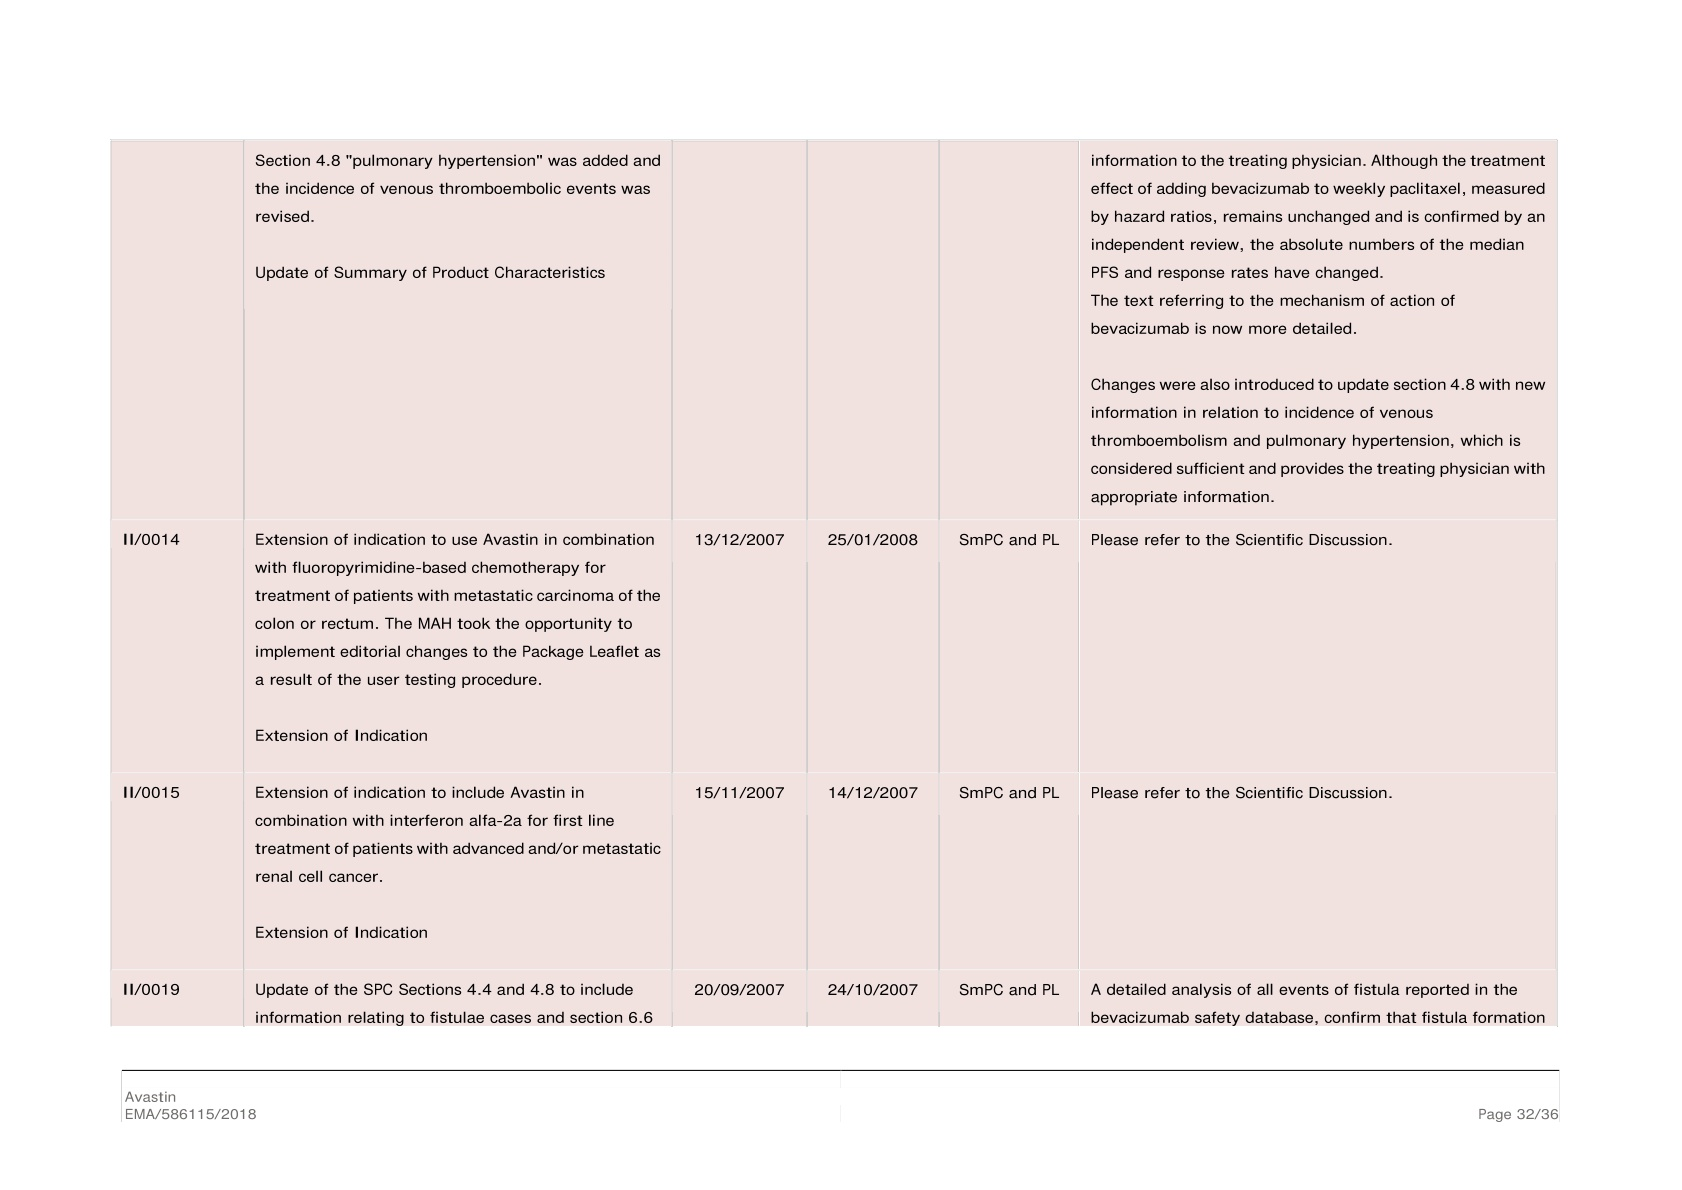full_lined: (106, 126, 1575, 1046)
